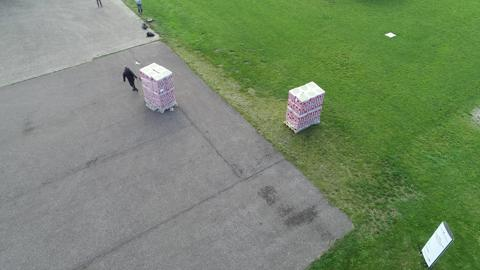RockwoolPallet: (142, 64, 172, 112)
